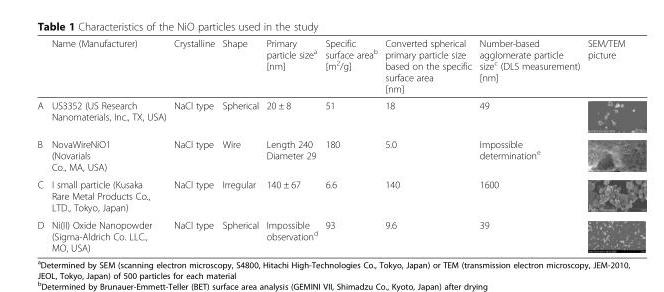table: (36, 37, 624, 253)
table column: (47, 37, 169, 253), (475, 37, 583, 253), (380, 37, 475, 253), (320, 37, 380, 253), (261, 37, 320, 253), (169, 37, 217, 253), (217, 37, 261, 253), (583, 37, 624, 253), (36, 37, 47, 253)
table column header: (36, 37, 624, 96)
table row: (36, 37, 624, 96), (36, 130, 624, 175), (36, 175, 624, 215), (36, 215, 624, 253), (36, 96, 624, 130)
